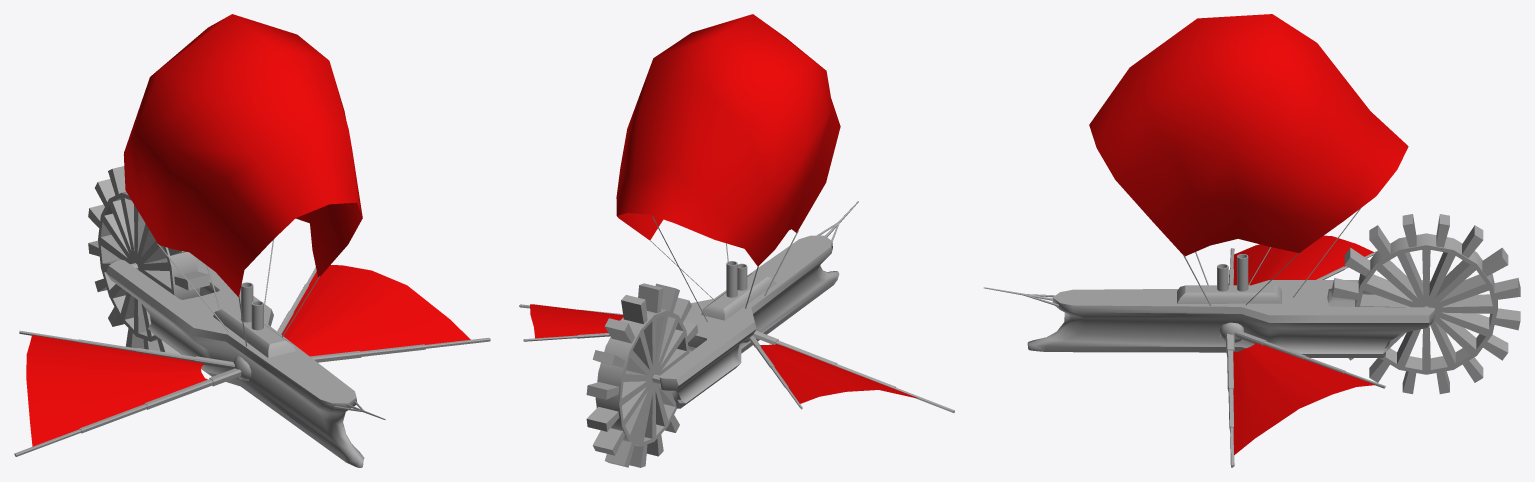
Rendered from ship_merchant_schooner.fbx.
3 views of the same model, side by side, from view 1: azimuth 30°, elevation 25°; view 2: azimuth 150°, elevation 25°; view 3: azimuth 270°, elevation 25° (orthographic). The views are drawn at different scales.
Visible parts, largest first — view 1: Merchant_ship; view 2: Merchant_ship; view 3: Merchant_ship.
Part boxes in pixels (x1=…): Merchant_ship: x1=14, y1=14, x2=490, y2=467; Merchant_ship: x1=519, y1=14, x2=954, y2=467; Merchant_ship: x1=983, y1=14, x2=1520, y2=467.
Size of the model in its own units: 1595 by 1287 by 1667.
